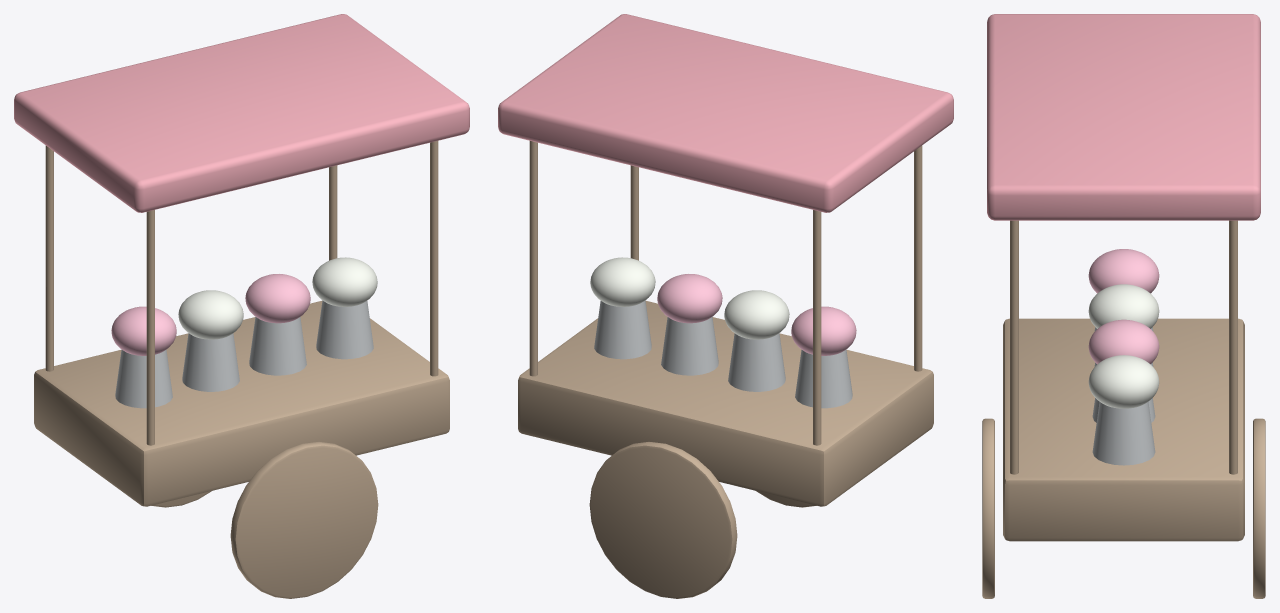
The model's file is florist-flower-cart.glb.
3 views of the same model, side by side, from view 1: azimuth 30°, elevation 25°; view 2: azimuth 150°, elevation 25°; view 3: azimuth 270°, elevation 25° (orthographic). The views are drawn at different scales.
Parts seen in each view (by area): view 1: cart_StripedAwning, cart_WoodenBed, cart_Wheel_-0.42, cart_ZincBucket_1, cart_ZincBucket_3, cart_ZincBucket_2, cart_Flowers_1, cart_Flowers_3, cart_Flowers_2, cart_ZincBucket_0, cart_Flowers_0, cart_AwningPole_0.55_-0.34 (+3 smaller); view 2: cart_StripedAwning, cart_WoodenBed, cart_Wheel_0.42, cart_ZincBucket_1, cart_ZincBucket_3, cart_ZincBucket_2, cart_Flowers_1, cart_Flowers_3, cart_Flowers_2, cart_ZincBucket_0, cart_Flowers_0, cart_AwningPole_0.55_0.34 (+3 smaller); view 3: cart_StripedAwning, cart_WoodenBed, cart_ZincBucket_3, cart_Flowers_3, cart_Flowers_1, cart_Flowers_2, cart_Flowers_0, cart_Wheel_0.42, cart_Wheel_-0.42, cart_AwningPole_0.55_0.34, cart_AwningPole_0.55_-0.34.
Part boxes in pixels (x1,y1,x2,y2): cart_StripedAwning: [14, 14, 469, 212]; cart_WoodenBed: [34, 301, 449, 506]; cart_Wheel_-0.42: [230, 442, 378, 598]; cart_ZincBucket_1: [182, 333, 239, 391]; cart_ZincBucket_3: [316, 300, 373, 359]; cart_ZincBucket_2: [249, 317, 306, 375]; cart_Flowers_1: [178, 290, 243, 339]; cart_Flowers_3: [312, 257, 377, 306]; cart_Flowers_2: [245, 274, 310, 323]; cart_ZincBucket_0: [115, 349, 172, 408]; cart_Flowers_0: [111, 306, 176, 355]; cart_AwningPole_0.55_-0.34: [430, 141, 438, 376]; cart_StripedAwning: [498, 14, 953, 212]; cart_WoodenBed: [518, 301, 933, 506]; cart_Wheel_0.42: [589, 442, 737, 598]; cart_ZincBucket_1: [728, 333, 785, 391]; cart_ZincBucket_3: [594, 300, 651, 359]; cart_ZincBucket_2: [661, 317, 718, 375]; cart_Flowers_1: [724, 290, 789, 339]; cart_Flowers_3: [590, 257, 655, 306]; cart_Flowers_2: [657, 274, 722, 323]; cart_ZincBucket_0: [795, 349, 852, 408]; cart_Flowers_0: [791, 306, 856, 355]; cart_AwningPole_0.55_0.34: [529, 141, 537, 376]; cart_StripedAwning: [987, 14, 1260, 220]; cart_WoodenBed: [1003, 318, 1244, 541]; cart_ZincBucket_3: [1092, 402, 1155, 465]; cart_Flowers_3: [1088, 355, 1159, 408]; cart_Flowers_1: [1088, 284, 1159, 328]; cart_Flowers_2: [1088, 319, 1159, 364]; cart_Flowers_0: [1088, 249, 1159, 293]; cart_Wheel_0.42: [1253, 418, 1265, 598]; cart_Wheel_-0.42: [982, 418, 994, 598]; cart_AwningPole_0.55_0.34: [1229, 220, 1237, 474]; cart_AwningPole_0.55_-0.34: [1010, 220, 1018, 474].
Bounding box in the file's own units: 1.3 × 1.68 × 0.88.
